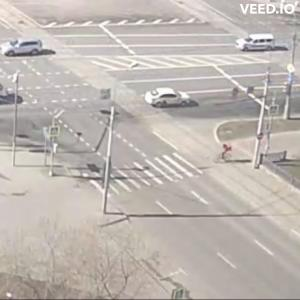car: (146, 88, 199, 110), (235, 33, 278, 54), (3, 40, 44, 58), (1, 95, 25, 107), (2, 41, 20, 56)
